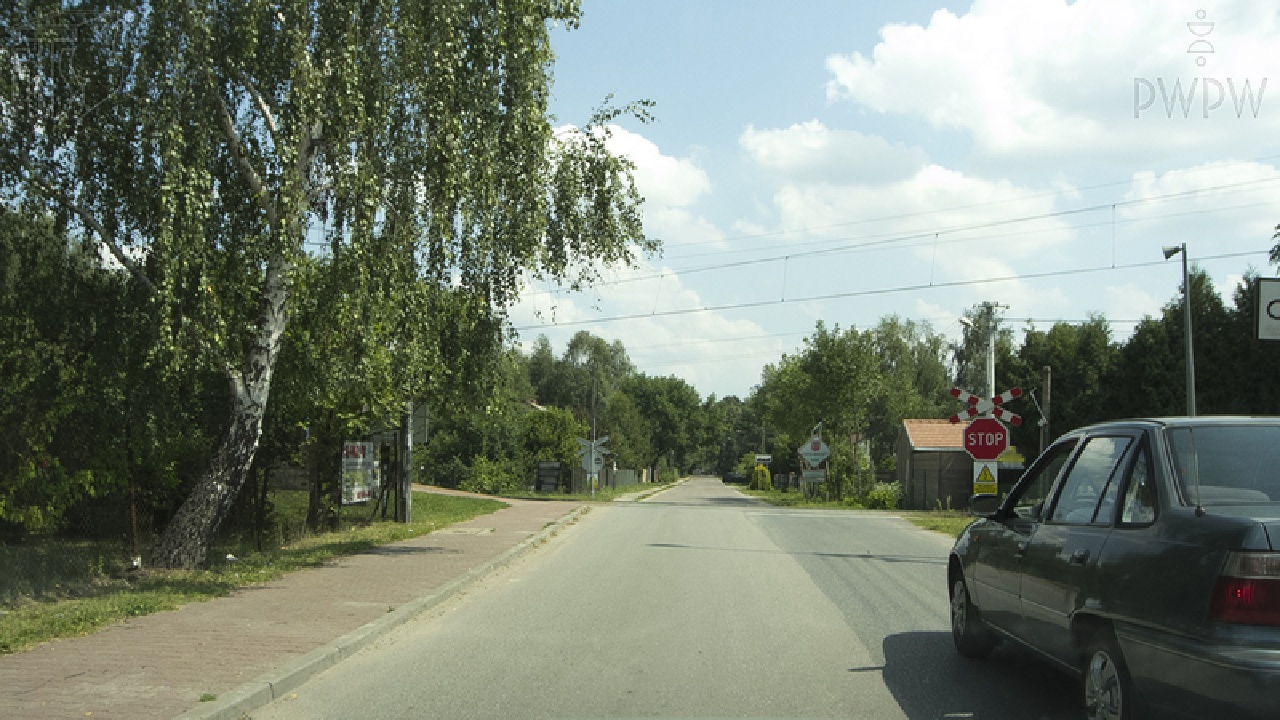B20: (962, 417, 1009, 460)
